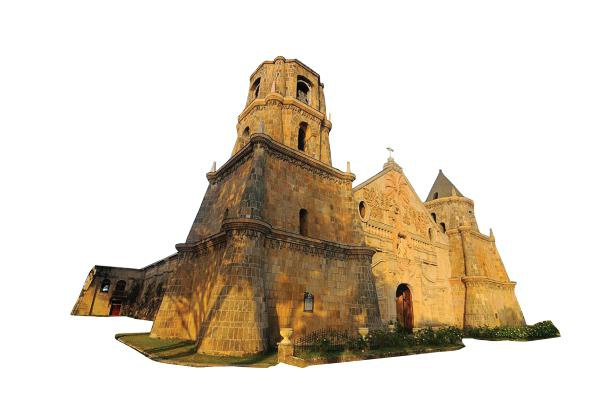miagao_church_miagao_iloilo: (173, 50, 528, 340)
